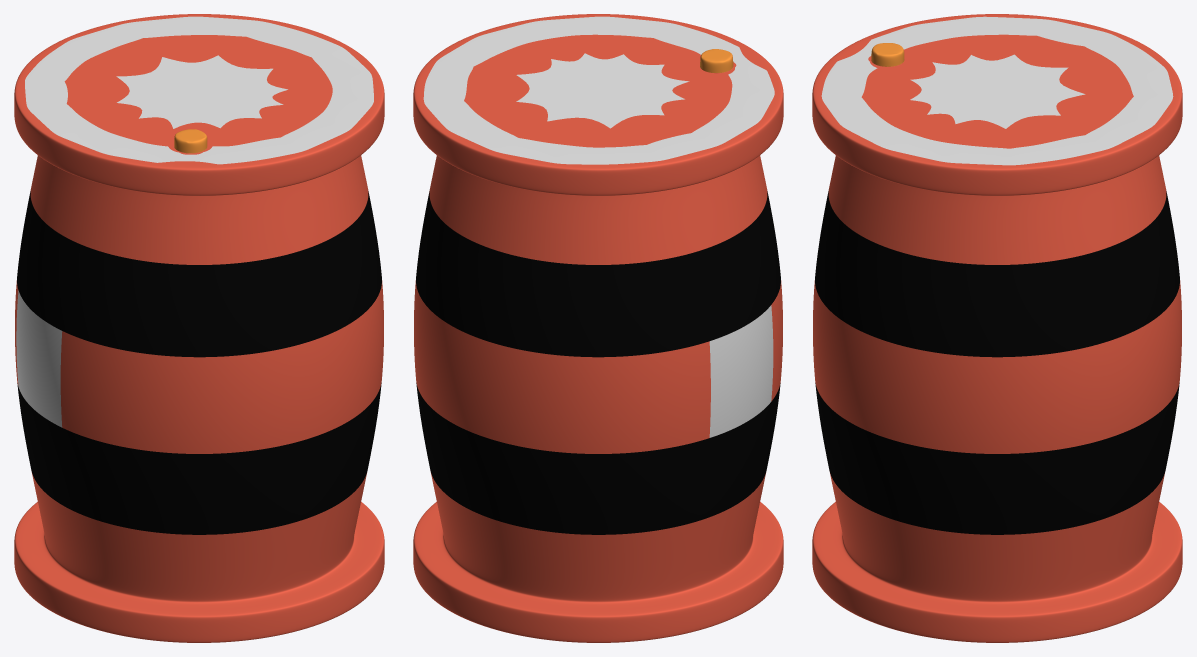
The model's file is red_barrel.fbx.
The picture shows the model from 3 angles, left to right: view 1: azimuth 30°, elevation 25°; view 2: azimuth 150°, elevation 25°; view 3: azimuth 270°, elevation 25°; orthographic projection.
Parts seen in each view (by area): view 1: Barrel; view 2: Barrel; view 3: Barrel.
Part boxes in pixels (left/top/right/bottom): Barrel: left=14, top=14, right=384, bottom=642; Barrel: left=413, top=14, right=783, bottom=642; Barrel: left=812, top=14, right=1182, bottom=642.
Size of the model in its own units: 240 by 348 by 240.
